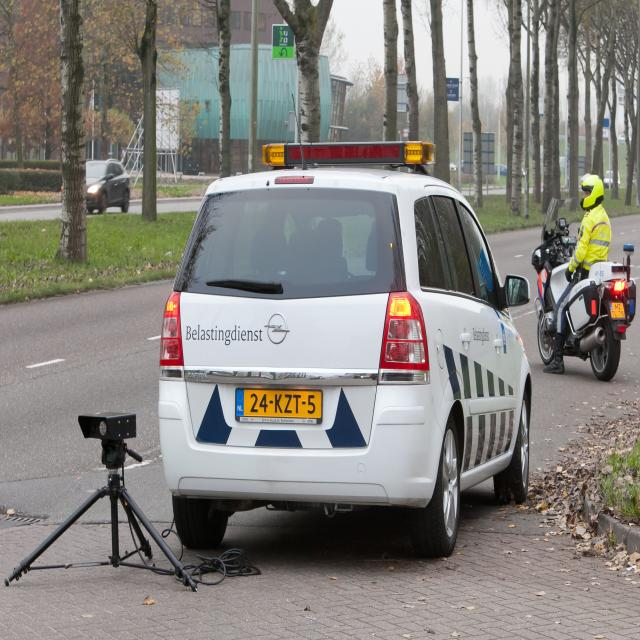num_plate: (233, 386, 321, 423)
